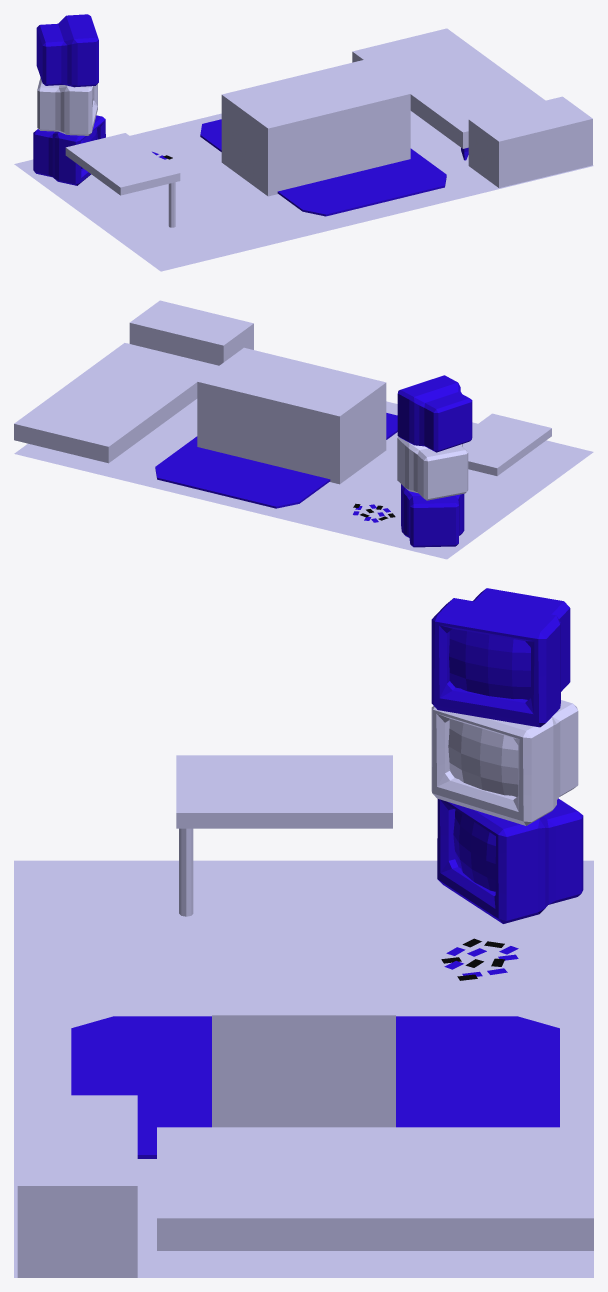
File: room_colored_no_walls_no_guitar.glb
3 views of the same model, one above another, from view 1: azimuth 30°, elevation 25°; view 2: azimuth 150°, elevation 25°; view 3: azimuth 270°, elevation 25° (orthographic). The views are drawn at different scales.
Visible parts, largest first — view 1: Walls, Table, Cube.003, Cube.005, Plane.005, Cube.006, Tv.002, Tv.001, Tv; view 2: Table, Walls, Cube.003, Plane.005, Cube.005, Tv.002, Tv.001, Cube.006, Tv; view 3: Walls, Cube.003, Table, Plane.005, Cube.005, Cube.006, Tv.002, Tv, Tv.001, Plane.006.
Part boxes in pixels (x1=…): Walls: x1=14, y1=111, x2=593, y2=271; Table: x1=221, y1=60, x2=410, y2=196; Cube.003: x1=352, y1=28, x2=545, y2=148; Cube.005: x1=468, y1=96, x2=592, y2=188; Plane.005: x1=200, y1=119, x2=446, y2=216; Cube.006: x1=65, y1=133, x2=180, y2=227; Tv.002: x1=36, y1=14, x2=98, y2=87; Tv.001: x1=37, y1=77, x2=97, y2=135; Tv: x1=33, y1=115, x2=105, y2=185; Table: x1=197, y1=347, x2=386, y2=484; Walls: x1=14, y1=399, x2=593, y2=559; Cube.003: x1=14, y1=343, x2=218, y2=463; Plane.005: x1=155, y1=413, x2=397, y2=508; Cube.005: x1=129, y1=300, x2=253, y2=365; Tv.002: x1=397, y1=375, x2=472, y2=452; Tv.001: x1=397, y1=436, x2=468, y2=500; Cube.006: x1=463, y1=413, x2=551, y2=475; Tv: x1=401, y1=484, x2=464, y2=547; Walls: x1=14, y1=860, x2=593, y2=1277; Cube.003: x1=157, y1=1127, x2=593, y2=1250; Table: x1=212, y1=878, x2=395, y2=1127; Plane.005: x1=71, y1=1016, x2=559, y2=1158; Cube.005: x1=17, y1=1095, x2=137, y2=1277; Cube.006: x1=176, y1=755, x2=392, y2=916; Tv.002: x1=431, y1=588, x2=570, y2=727; Tv: x1=437, y1=798, x2=583, y2=923; Tv.001: x1=431, y1=700, x2=578, y2=825; Plane.006: x1=441, y1=938, x2=518, y2=980.
Bounding box in the file's own units: 5.96 × 1.91 × 3.5.
